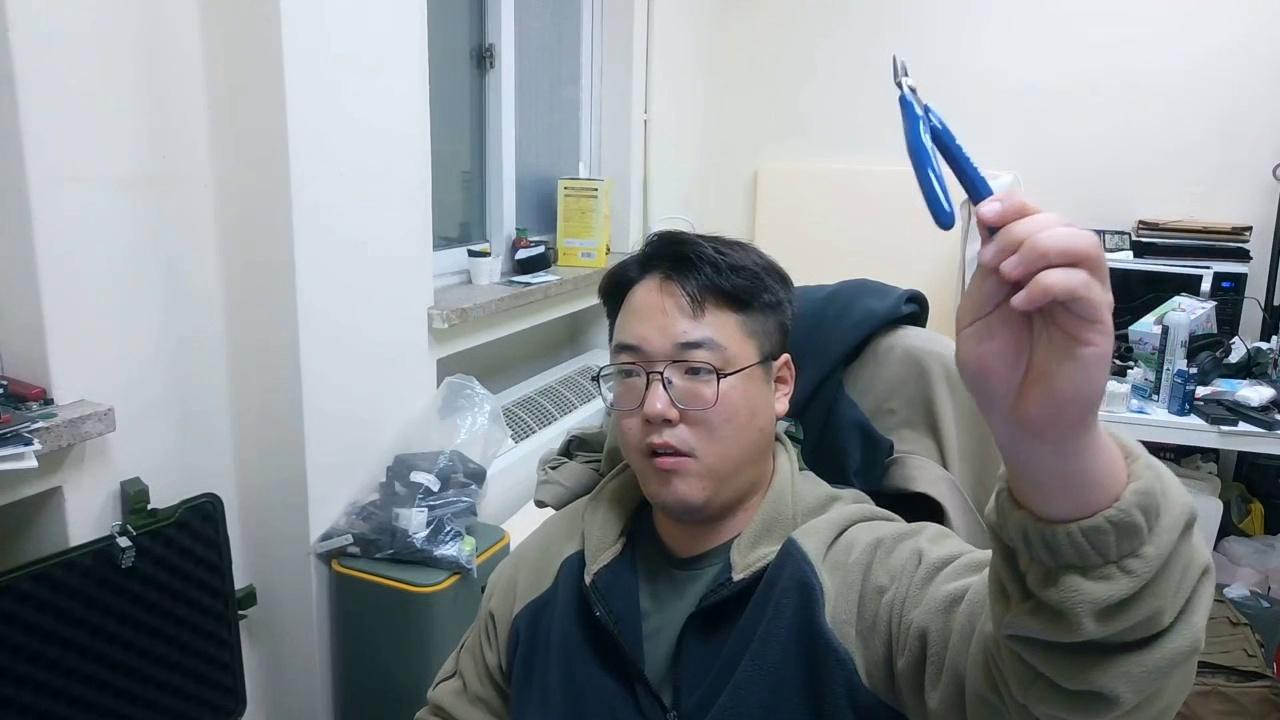blue_pliers: (890, 53, 1000, 233)
